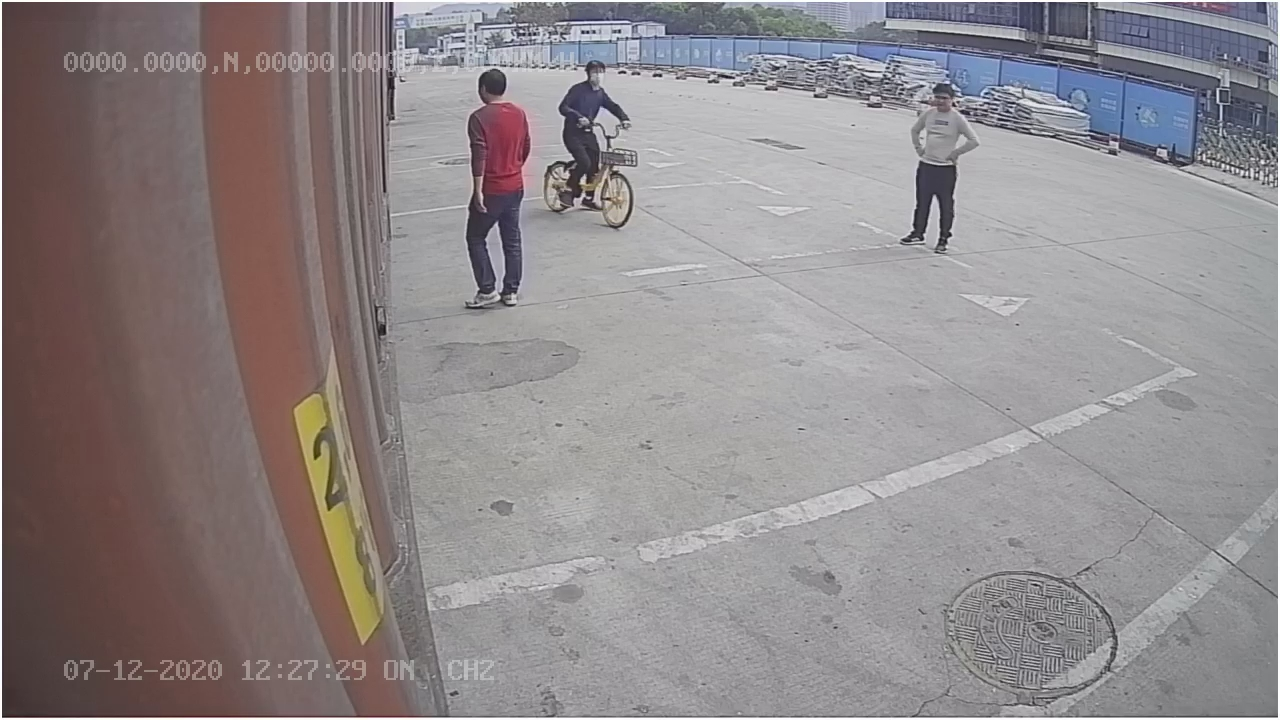person: (455, 65, 535, 317)
